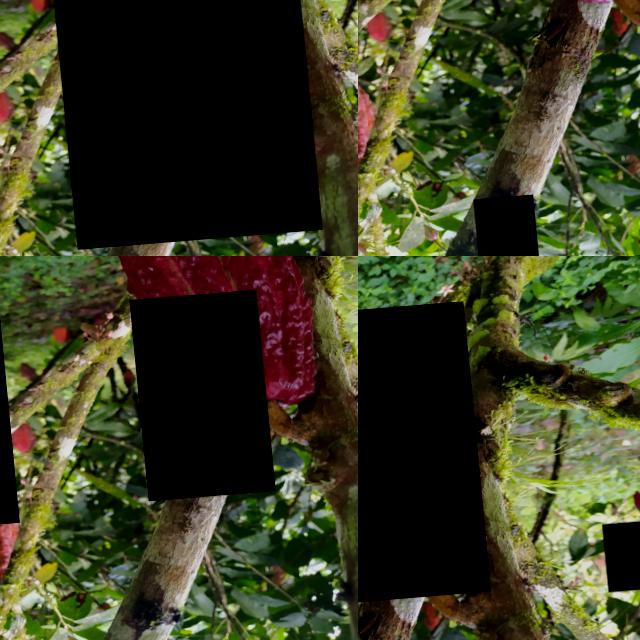Fitoftora: (33, 0, 311, 252), (595, 531, 640, 601)
Sana: (358, 308, 483, 611), (124, 296, 266, 505), (462, 198, 526, 256)
